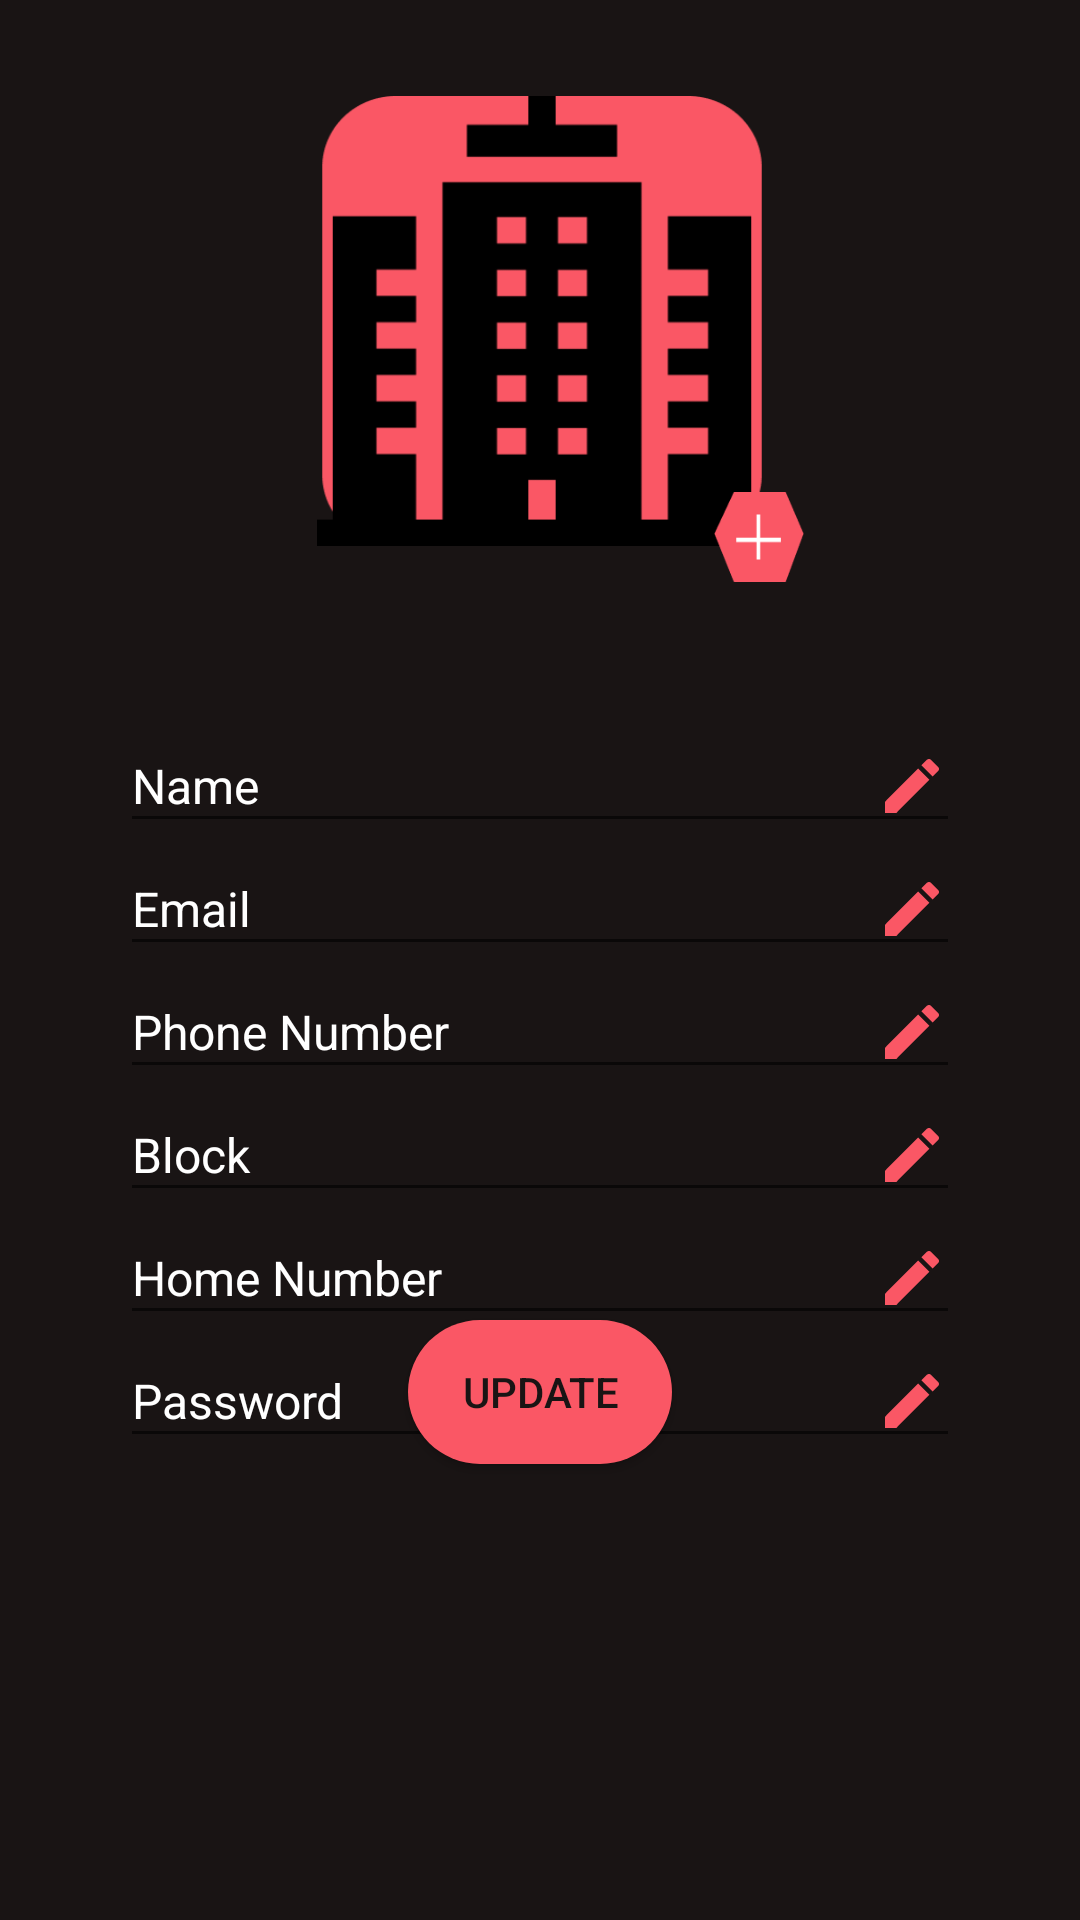

Screen size 1080 × 1920. Icon name, then its box in pixels as (x1, y1, x2, y2):
add: (714, 492, 804, 582)
